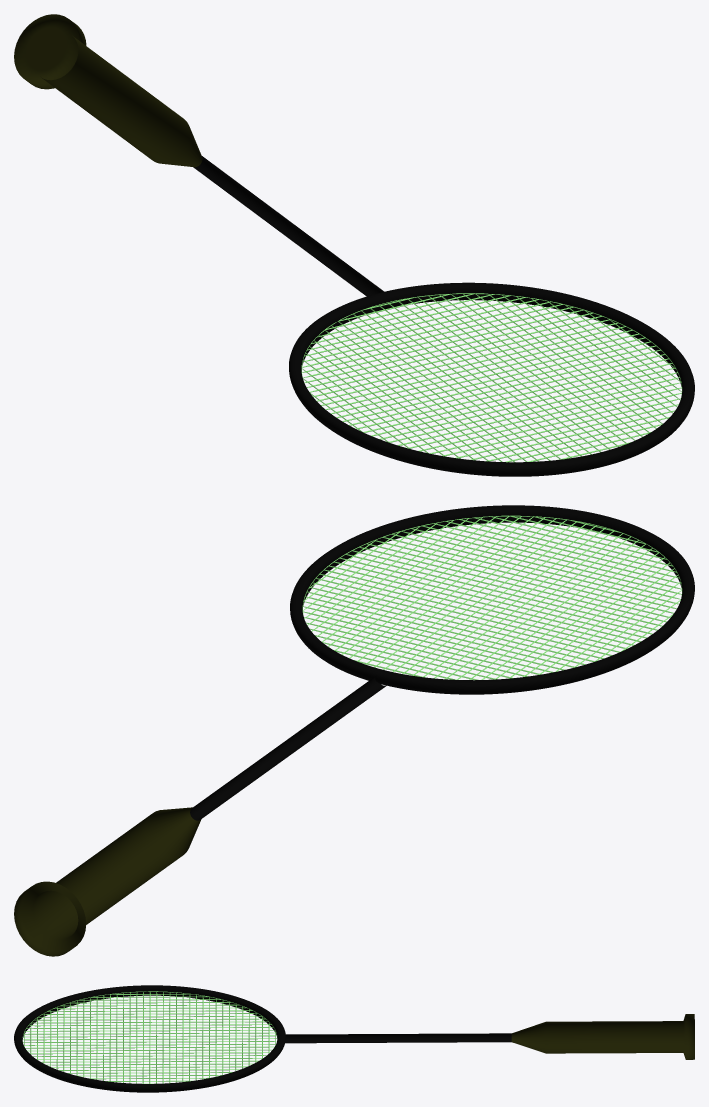
The model's file is uploads_files_4210611_RaketS.fbx.
The picture shows the model from 3 angles, top to bottom: view 1: azimuth 30°, elevation 25°; view 2: azimuth 150°, elevation 25°; view 3: azimuth 270°, elevation 25°; orthographic projection. The views are drawn at different scales.
Visible parts, largest first — view 1: Circle.002, Plane.001; view 2: Circle.002, Plane.001; view 3: Circle.002, Plane.001.
Part boxes in pixels (x1,y1,x2,y2): Circle.002: [14, 14, 694, 476]; Plane.001: [301, 293, 682, 462]; Circle.002: [14, 505, 694, 956]; Plane.001: [302, 515, 682, 680]; Circle.002: [14, 985, 694, 1092]; Plane.001: [22, 991, 277, 1083].
Size of the model in its own units: 1045 by 200 by 2974.
